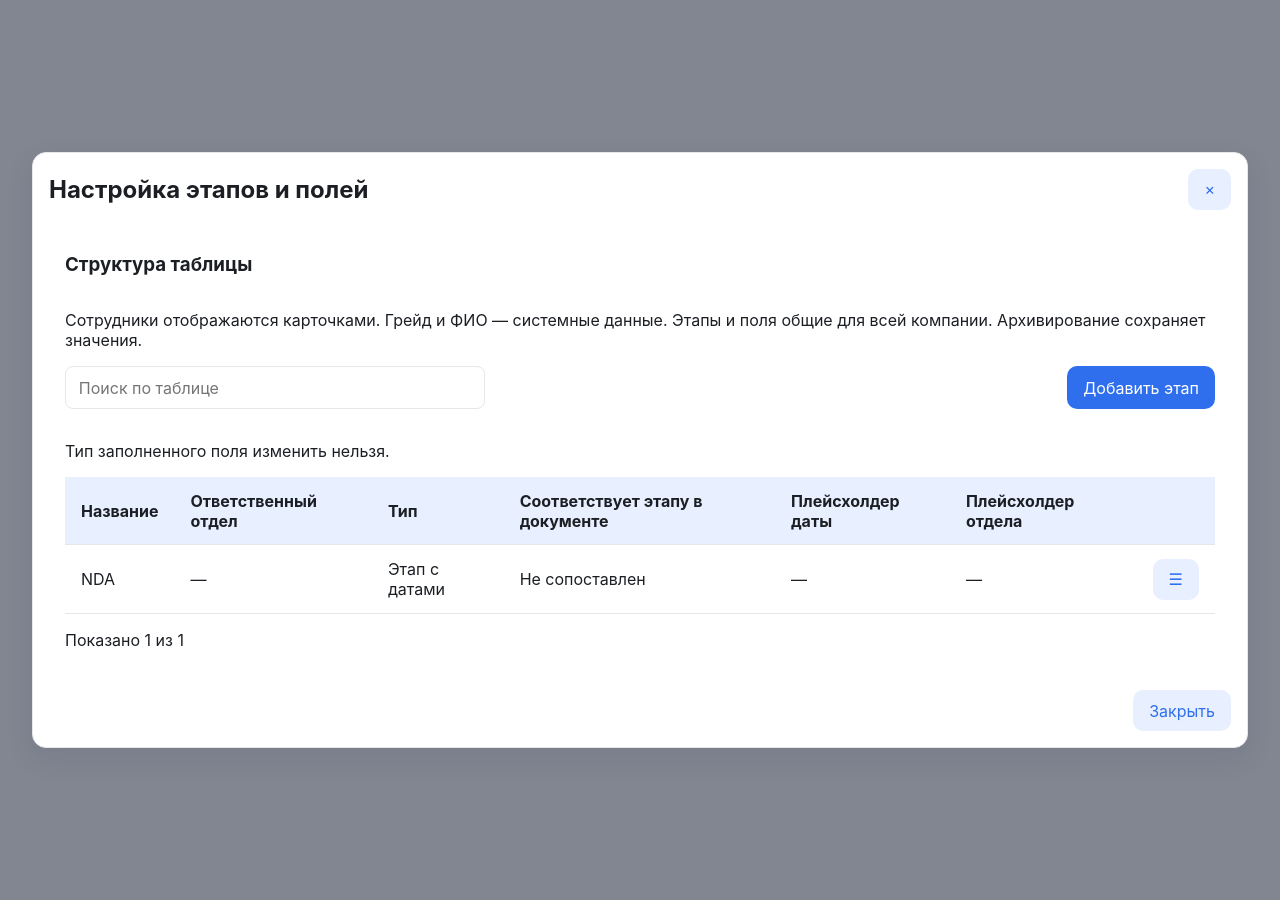
Test: Columns modal › protects the child draft and keeps the parent open
Click the button "Добавить этап" at {"x": 1141, "y": 388}, box x1=1067 y1=366 x2=1215 y2=409
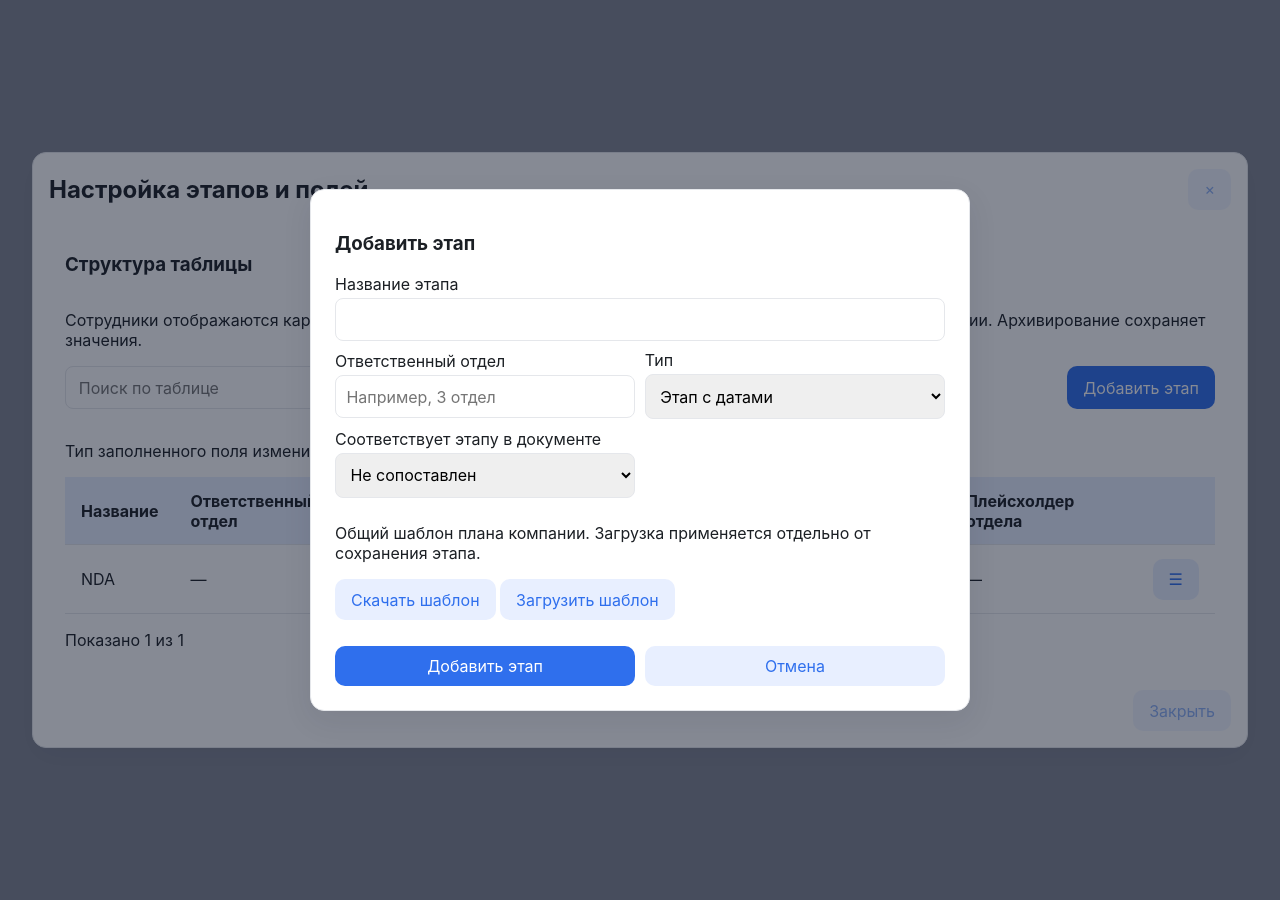
Type "Не сохранено" into the field labelled "Название этапа" at {"x": 640, "y": 320}, box x1=335 y1=298 x2=945 y2=341
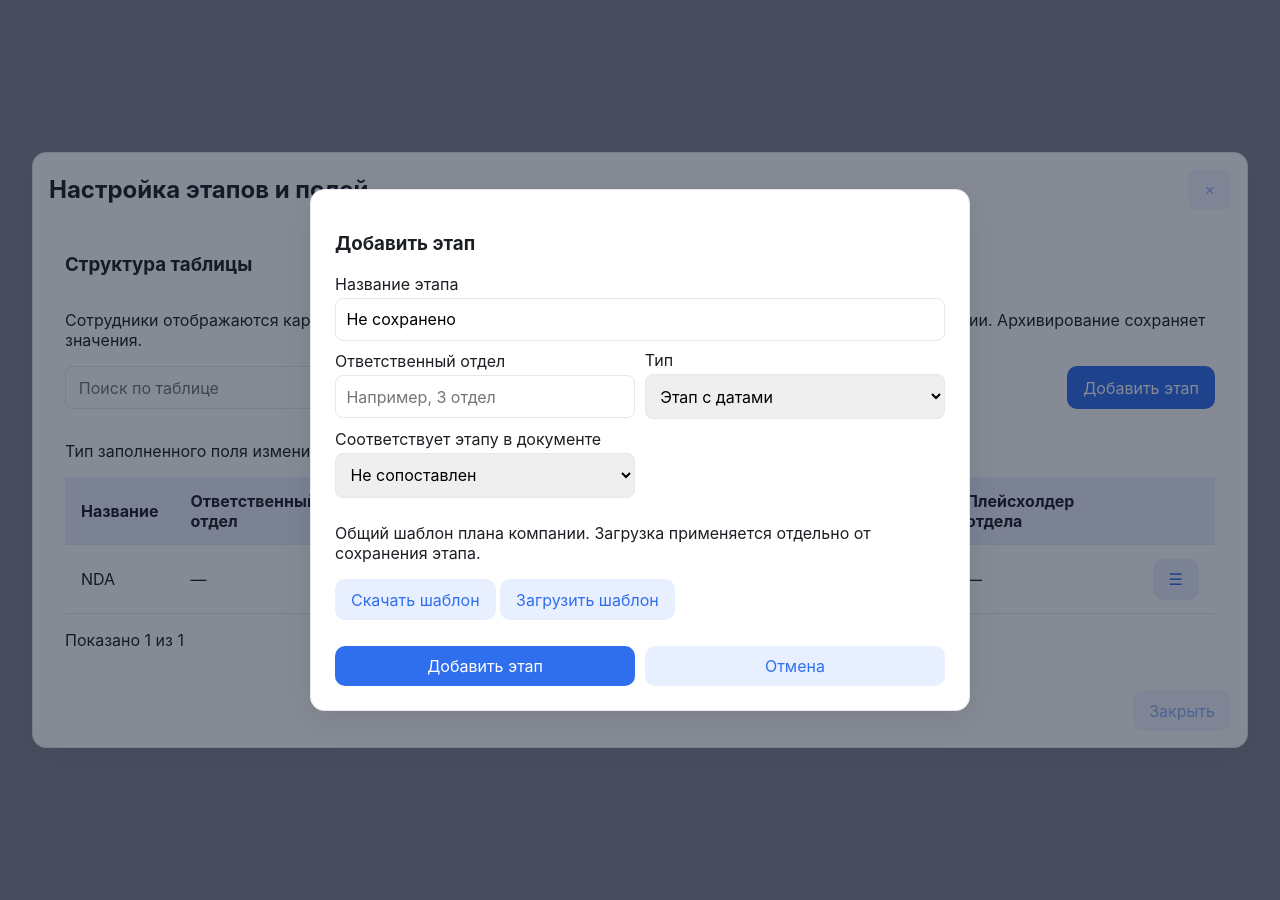
Press Escape in the element with class "editor-overlay"
Press Escape in the element with class "editor-overlay"
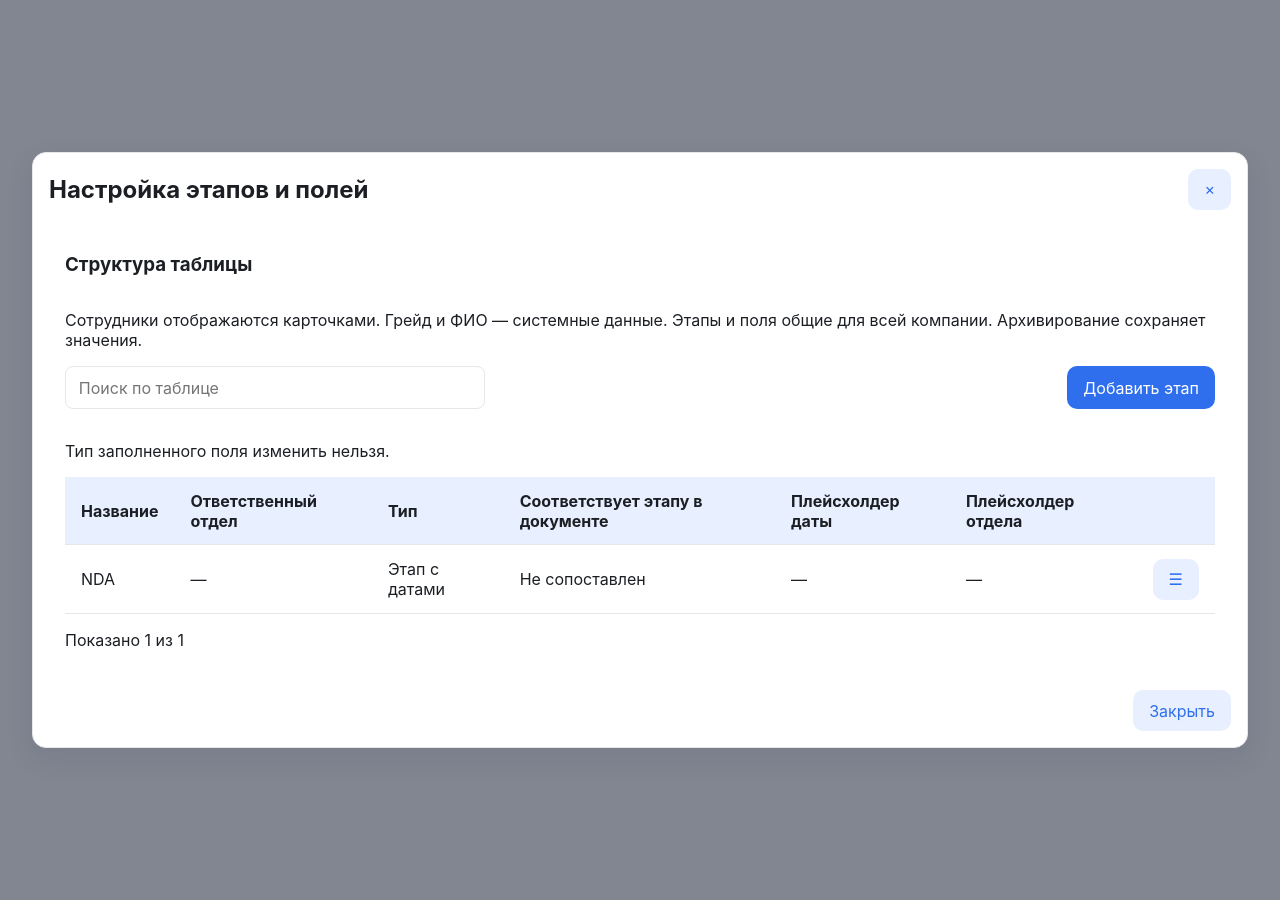
expect no forms are shown: met
